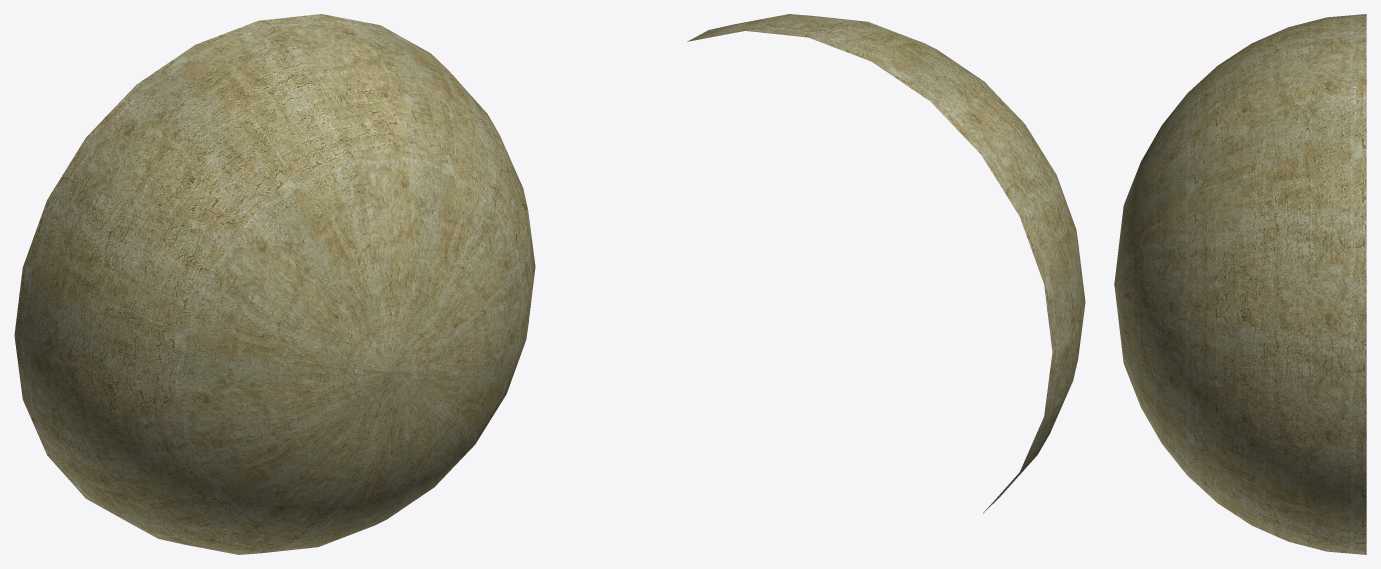
File: dome_08.glb
3 renders of one model, left to right at view 1: azimuth 30°, elevation 25°; view 2: azimuth 150°, elevation 25°; view 3: azimuth 270°, elevation 25°, orthographic. The views are drawn at different scales.
Bounding box in the file's own units: 340 × 340 × 158.
Materials: 1 (1 with a texture image).
